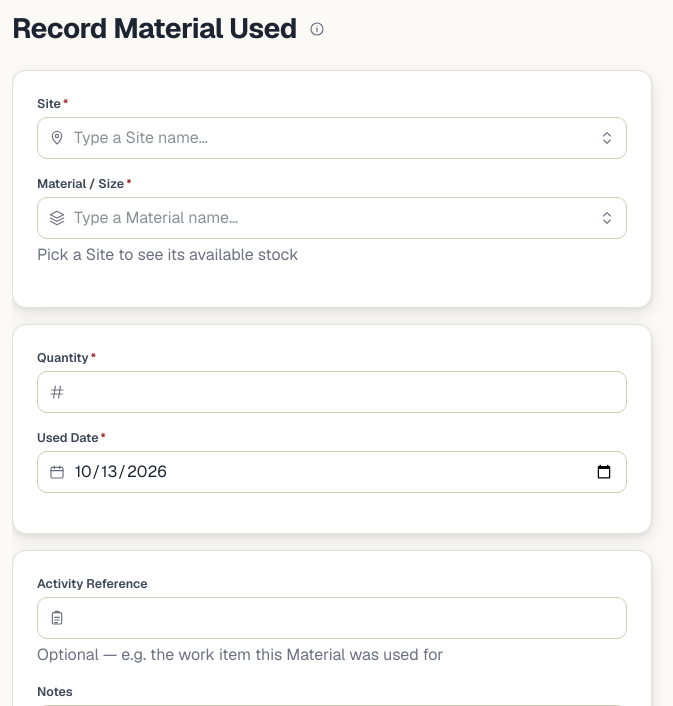
NewConsumptionPage › flattens each Material's Sizes into Material/Size picker options
Type "rcc" into the dropdown labelled "Material / Size" at [332, 218], box [37, 197, 627, 239]
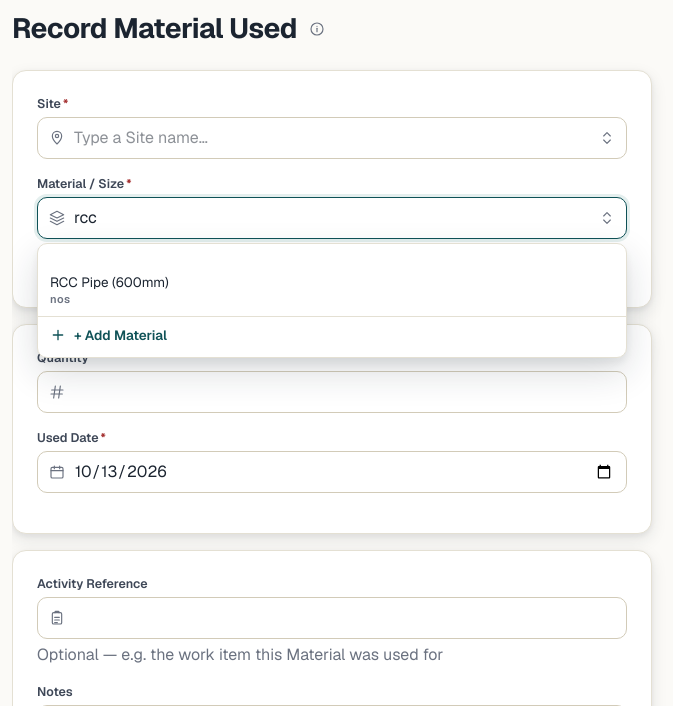
Check: the text "RCC Pipe (600mm)" is shown, box [50, 272, 169, 292]
